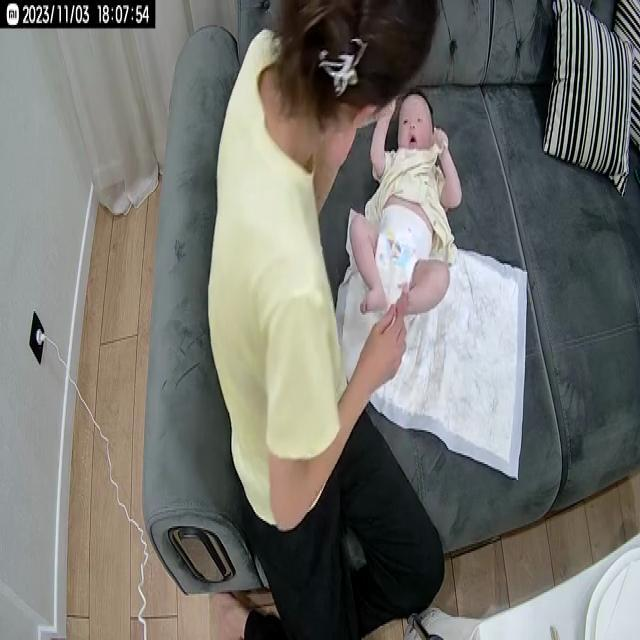baby: (347, 84, 464, 326)
